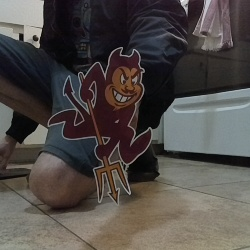sparky: (46, 46, 153, 203)
